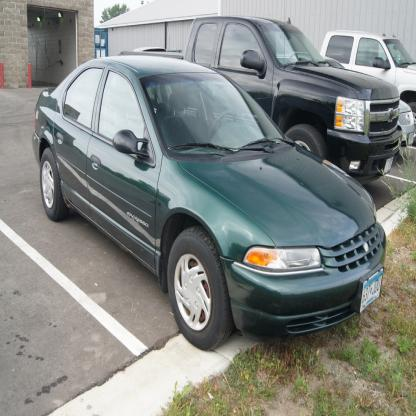Car: (37, 58, 394, 349), (153, 1, 403, 186), (278, 31, 416, 145), (399, 99, 415, 148)
